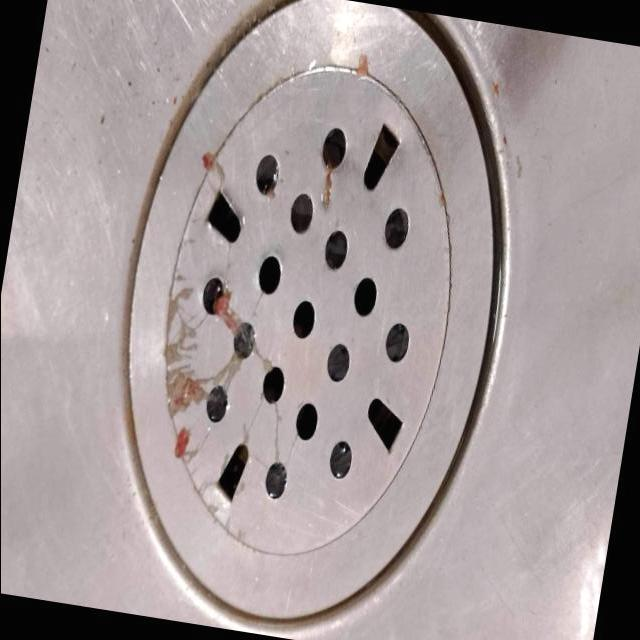General: (3, 2, 639, 639)
Sharps: (202, 278, 256, 360), (200, 444, 250, 527), (201, 153, 243, 245)
